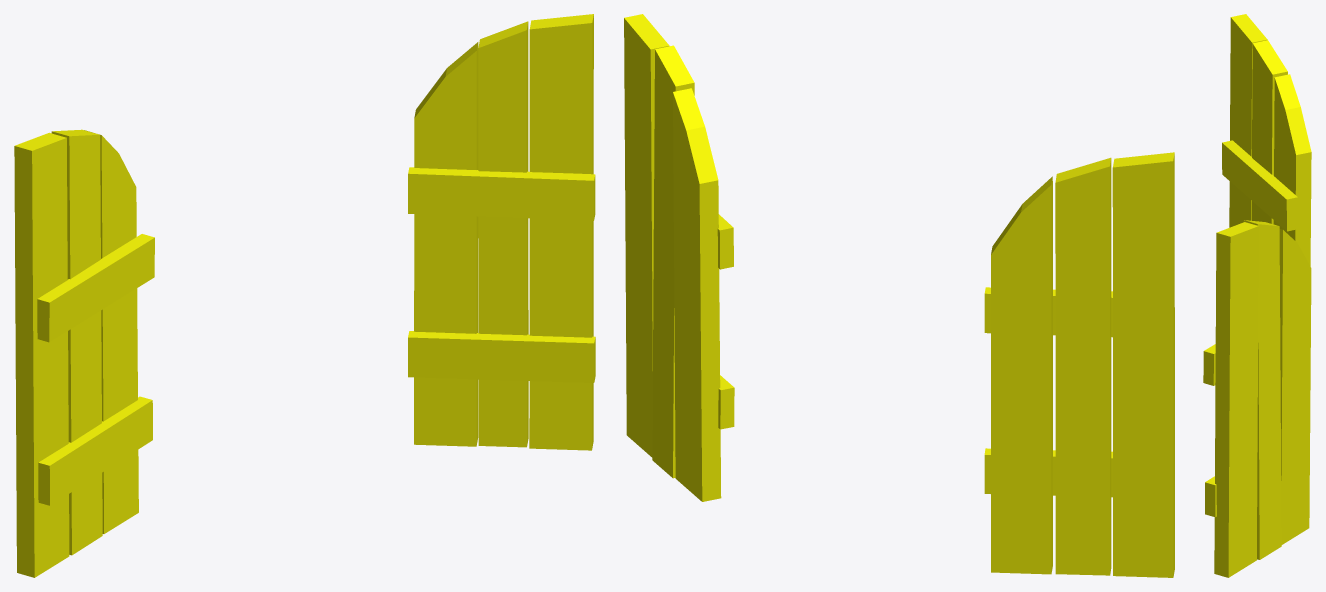
The model's file is windowshutters-wide-round-open.glb.
The picture shows the model from 3 angles, left to right: view 1: azimuth 30°, elevation 25°; view 2: azimuth 150°, elevation 25°; view 3: azimuth 270°, elevation 25°; orthographic projection. The views are drawn at different scales.
Visible parts, largest first — view 1: WindowShutters_Wide_Round_Open; view 2: WindowShutters_Wide_Round_Open; view 3: WindowShutters_Wide_Round_Open.
Boxes of the visible parts, box(x1,y1,x2,y2) form: WindowShutters_Wide_Round_Open: box(14, 14, 595, 577); WindowShutters_Wide_Round_Open: box(624, 14, 1174, 577); WindowShutters_Wide_Round_Open: box(1203, 14, 1311, 577).
Size of the model in its own units: 2.3 by 1.65 by 0.4724.
